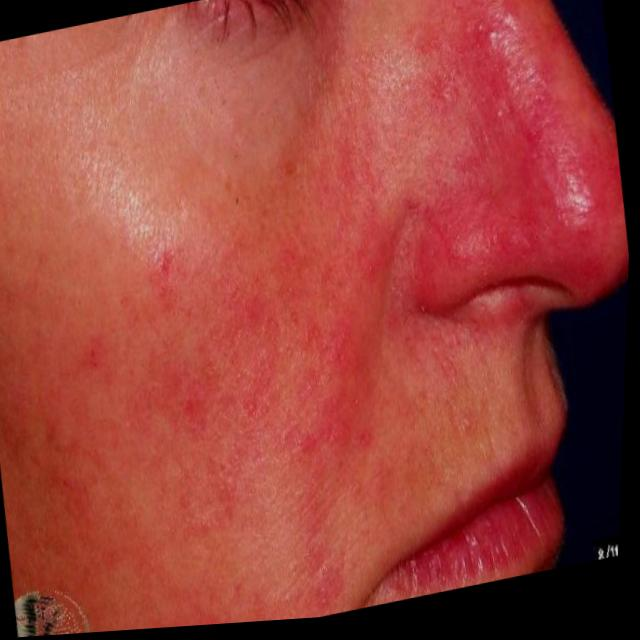Rosacea: (38, 193, 347, 498), (367, 0, 620, 266)
